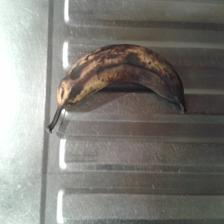Banana Rotten: (52, 53, 201, 117)
